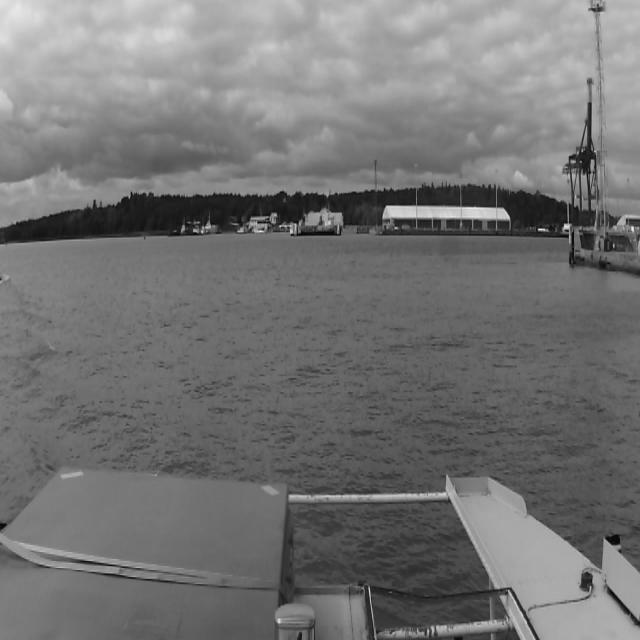ship: (168, 220, 191, 236), (201, 218, 217, 235), (192, 221, 200, 235)
